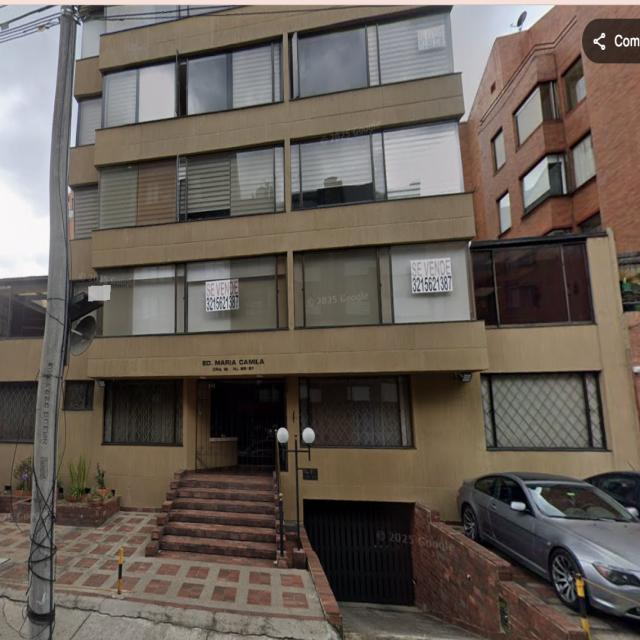fachada: (60, 6, 639, 603), (461, 5, 639, 366)
poste: (26, 7, 75, 639), (295, 435, 301, 549)
